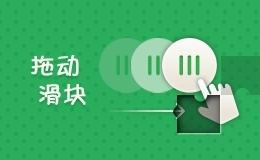target: (156, 76, 199, 114)
